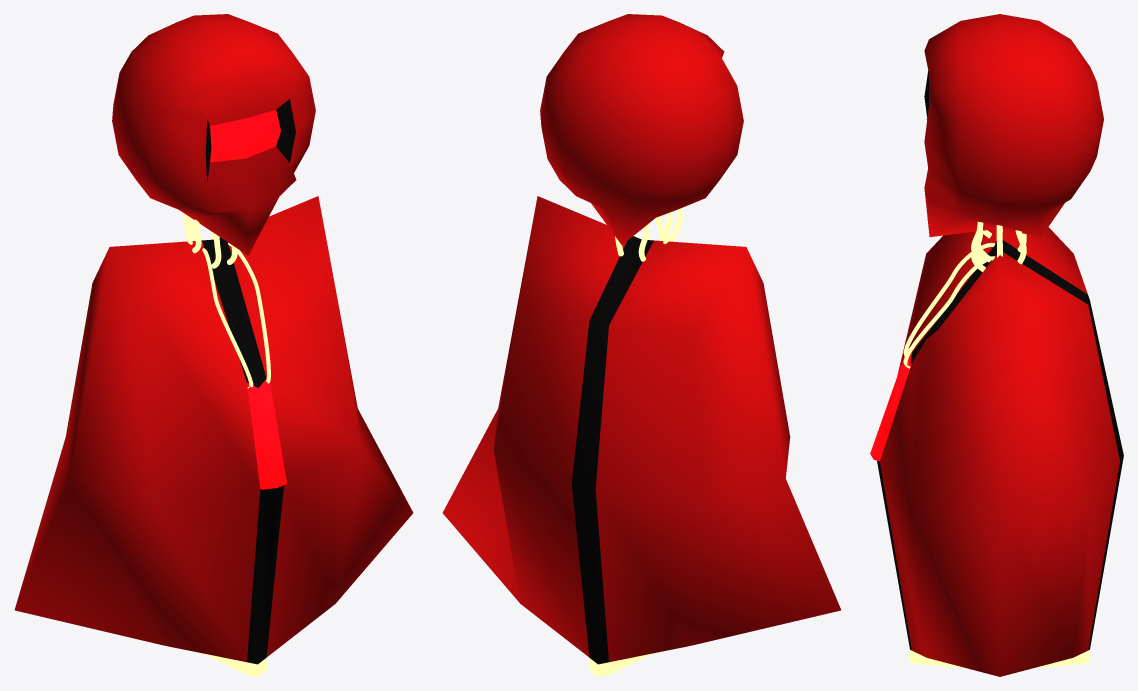
File: NEWBOTS.fbx
The picture shows the model from 3 angles, left to right: view 1: azimuth 30°, elevation 25°; view 2: azimuth 150°, elevation 25°; view 3: azimuth 270°, elevation 25°; orthographic projection. The views are drawn at different scales.
Parts seen in each view (by area): view 1: Cubo.002; view 2: Cubo.002; view 3: Cubo.002.
Part boxes in pixels (x1,y1,x2,y2): Cubo.002: (14,14,413,676); Cubo.002: (442,14,840,676); Cubo.002: (870,14,1123,676).
Size of the model in its own units: 158 by 238 by 84.98.
